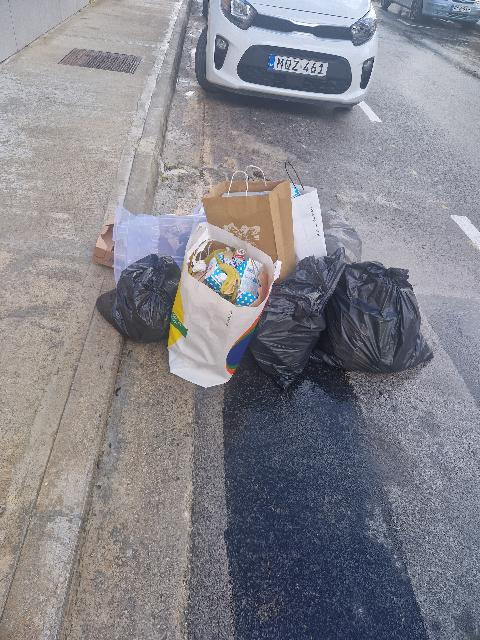Other: (168, 223, 280, 387), (202, 180, 295, 278), (113, 206, 206, 283), (290, 183, 327, 264), (92, 216, 115, 268)
Recyclable -Grey-: (249, 249, 346, 389), (313, 261, 433, 373), (97, 254, 180, 341), (322, 210, 361, 262)
